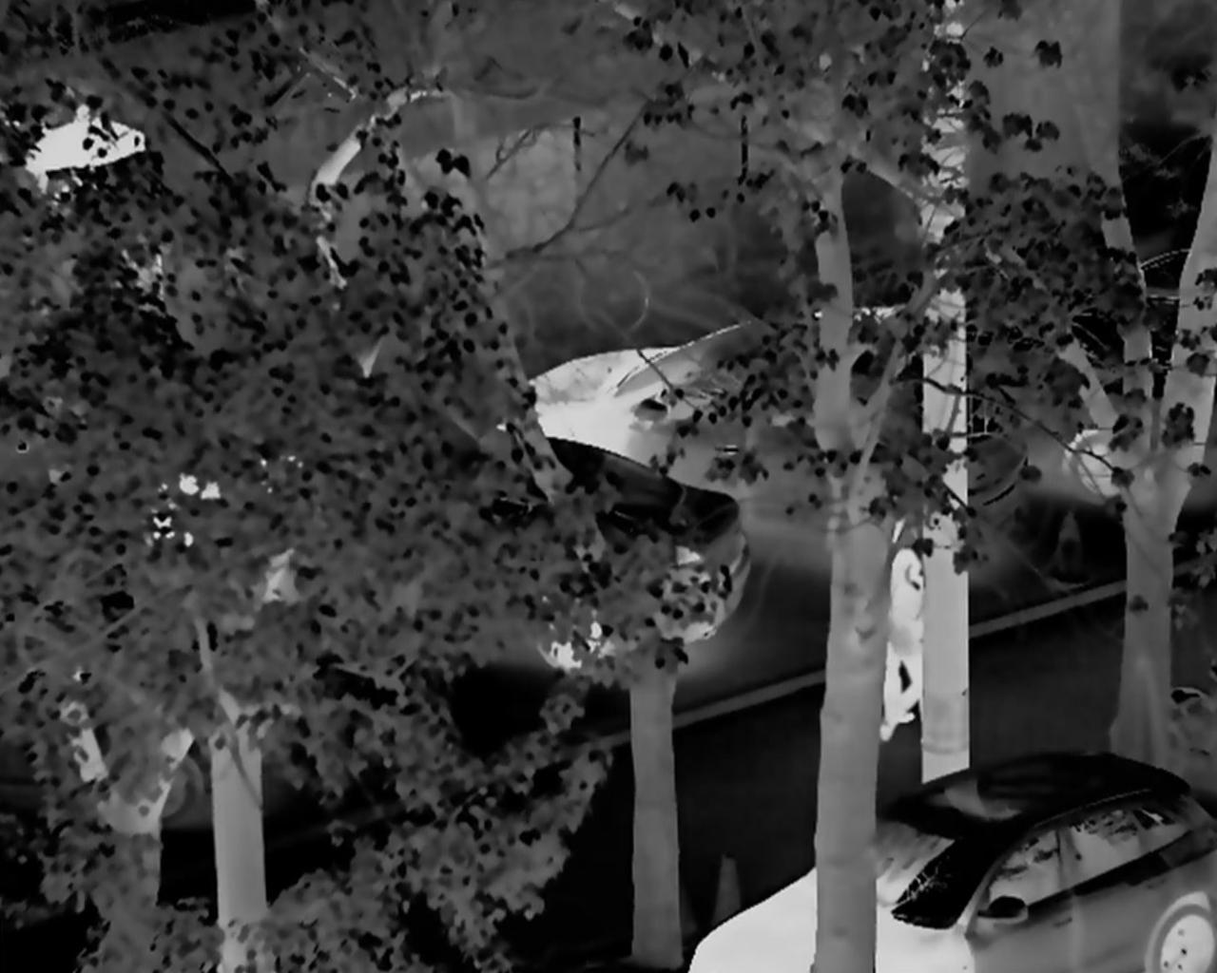person: (884, 530, 931, 741)
